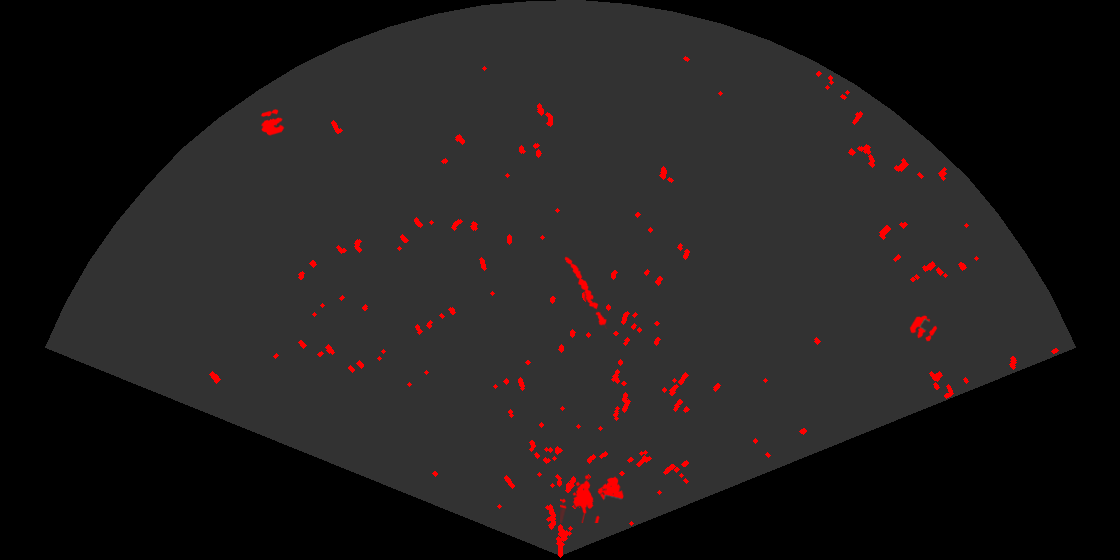ball: (908, 314, 939, 343), (259, 108, 286, 137)
cage: (560, 473, 625, 523)
chain: (563, 255, 609, 329)
